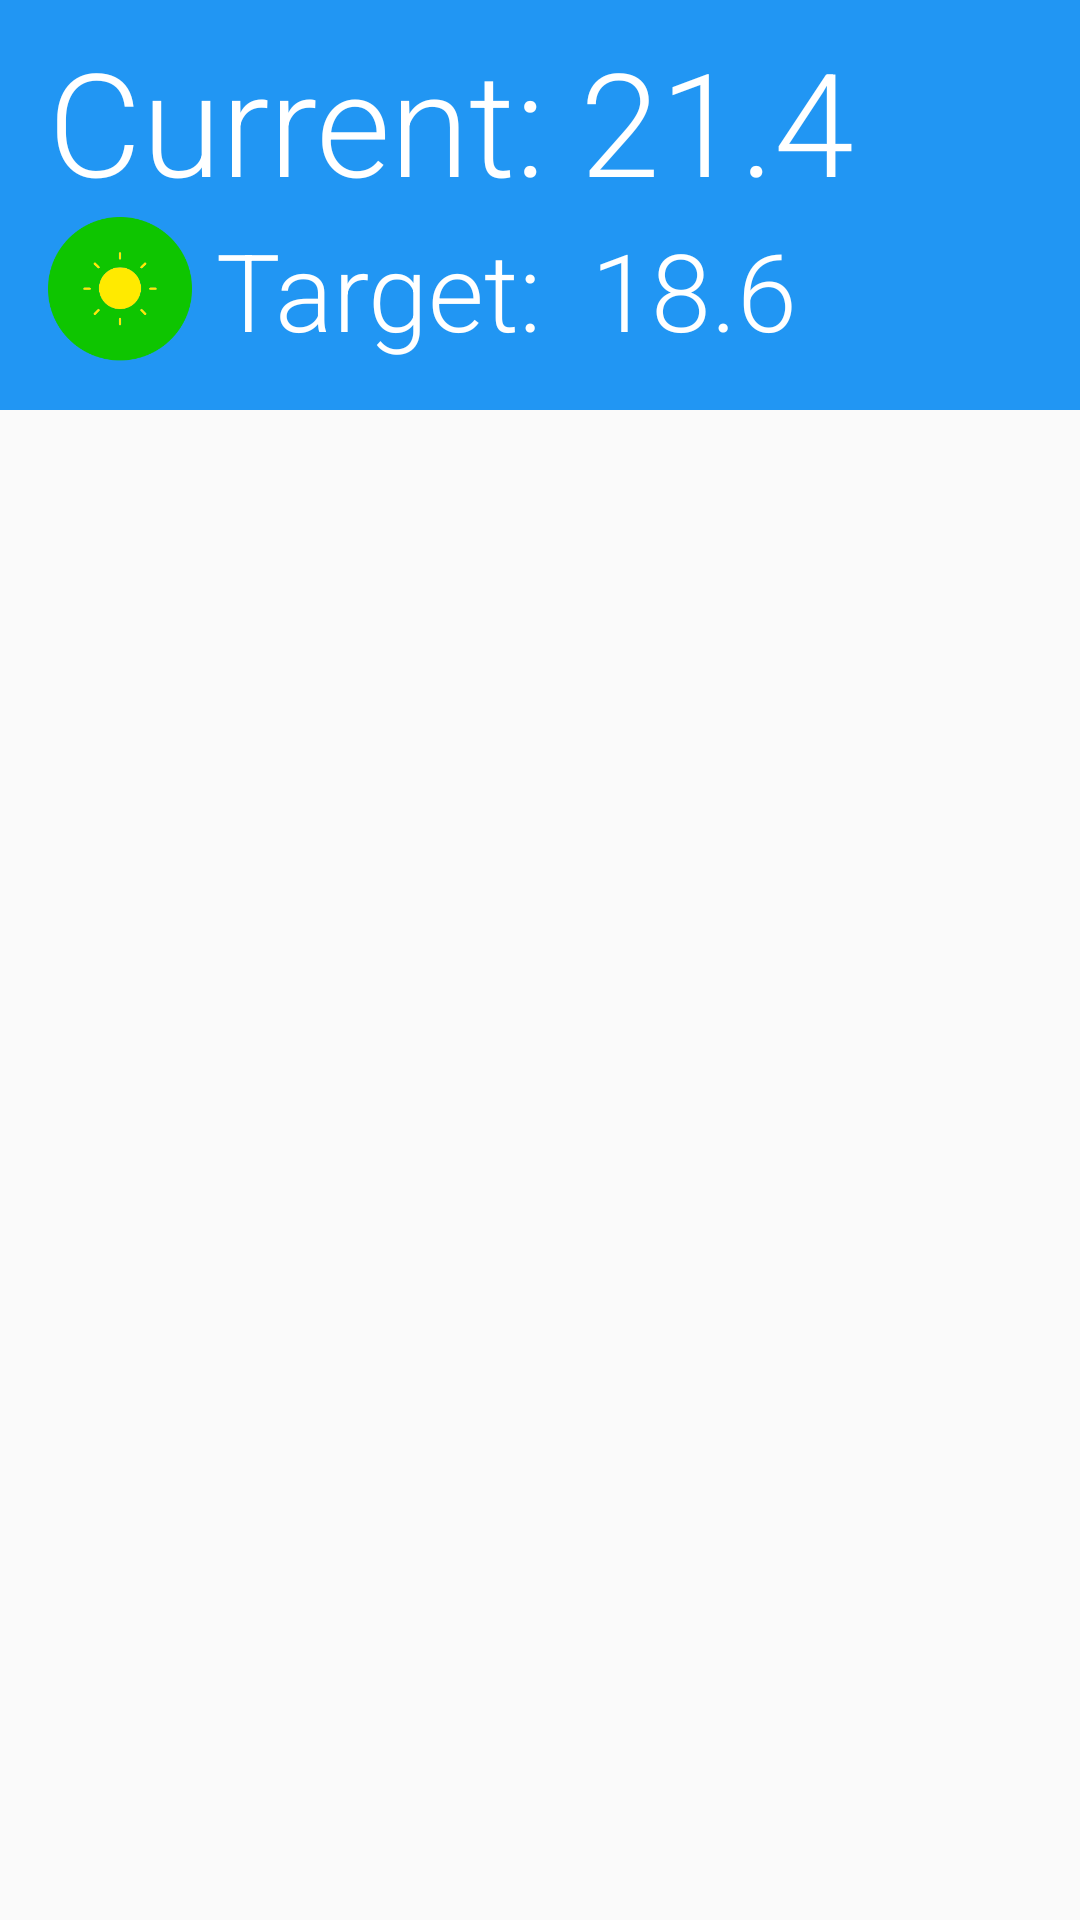

Screen size 1080×1920. Icon name, then its box in pixels as (x1, y1, x2, y2):
sun: (48, 217, 192, 361)
